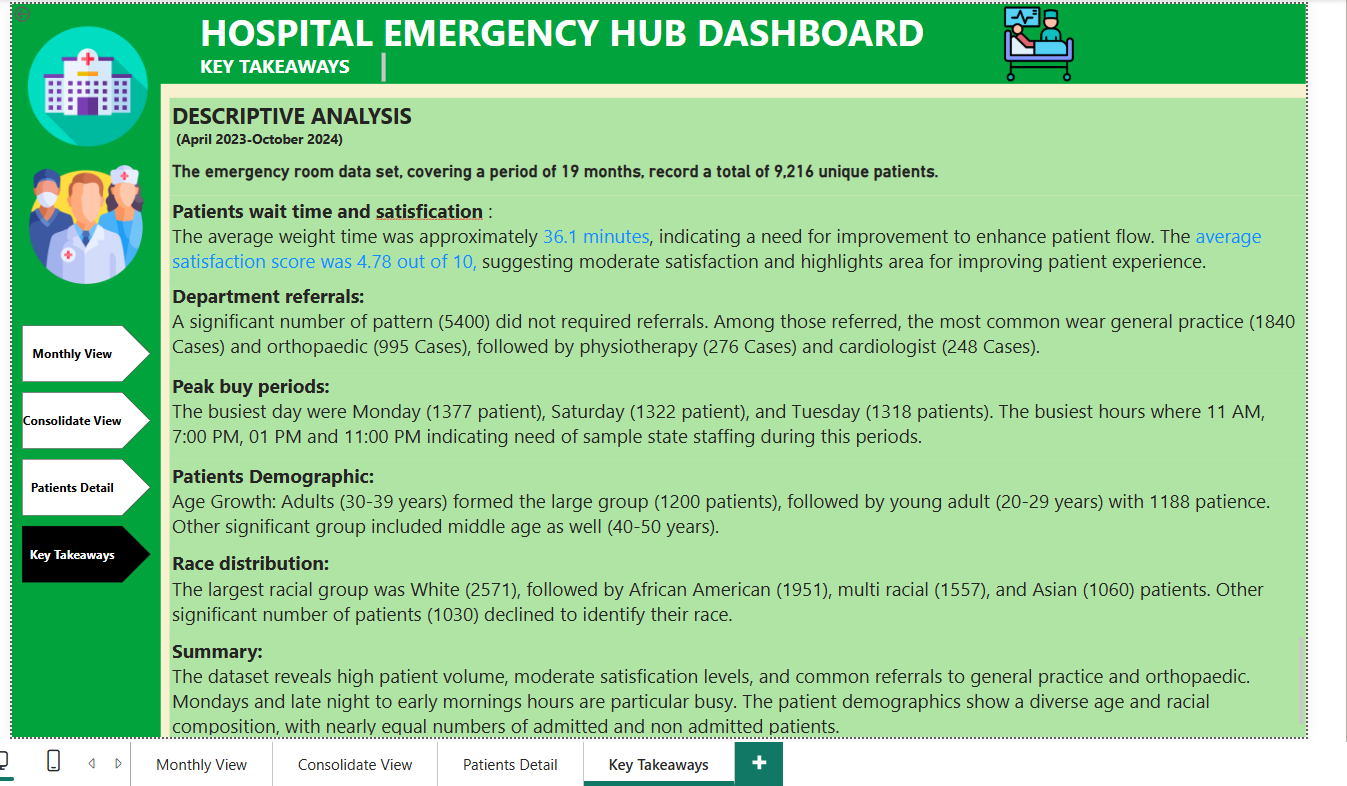

Layout of this report page (visuals, bound fields, positions):
{"tool":"powerbi","page":{"name":"Key Takeaways","canvas":[2555,1448],"ordinal":3},"visuals":[{"type":"shape","box":[0,0,293.6,1448.5],"z":0},{"type":"shape","box":[0,0,2554,157.9],"z":1000},{"type":"textbox","box":[310.9,0,1549.7,118.4],"z":2000},{"type":"textbox","box":[350.4,96.2,387.4,61.7],"z":3000},{"type":"actionButton","box":[0,0,100,40],"z":4000},{"type":"image","box":[0,39.5,298.6,246.8],"z":5000},{"type":"textbox","box":[310.9,185.1,2243.1,120.9],"z":6000},{"type":"textbox","box":[310.9,306,2243.1,71.6],"z":7000},{"type":"textbox","box":[310.9,377.5,2243.1,167.8],"z":8000},{"type":"textbox","box":[310.9,545.3,2243.1,177.7],"z":9000},{"type":"textbox","box":[310.9,723,2243.1,177.7],"z":10000},{"type":"textbox","box":[310.9,900.7,2243.1,172.7],"z":11000},{"type":"textbox","box":[310.9,1073.4,2243.1,172.7],"z":12000},{"type":"textbox","box":[311,1246,2243,202],"z":13000},{"type":"pageNavigator","box":[19.7,634.2,254.2,510.8],"z":14000},{"type":"image","box":[1887.7,0,278.8,157.9],"z":15000},{"type":"image","box":[0,313.4,293.6,244.3],"z":16000}]}

Visuals, with their boxes on the page's 2555x1448 design canvas (x1, y1, x2, y2). These are canvas units, not pixel positions in the 1347x786 screenshot, which may show the page scaled, cropped or inside an application window:
shape: left=0, top=0, right=294, bottom=1448
shape: left=0, top=0, right=2554, bottom=158
textbox: left=311, top=0, right=1861, bottom=118
textbox: left=350, top=96, right=738, bottom=158
actionButton: left=0, top=0, right=100, bottom=40
image: left=0, top=40, right=299, bottom=286
textbox: left=311, top=185, right=2554, bottom=306
textbox: left=311, top=306, right=2554, bottom=378
textbox: left=311, top=378, right=2554, bottom=545
textbox: left=311, top=545, right=2554, bottom=723
textbox: left=311, top=723, right=2554, bottom=901
textbox: left=311, top=901, right=2554, bottom=1073
textbox: left=311, top=1073, right=2554, bottom=1246
textbox: left=311, top=1246, right=2554, bottom=1448
pageNavigator: left=20, top=634, right=274, bottom=1145
image: left=1888, top=0, right=2166, bottom=158
image: left=0, top=313, right=294, bottom=558
